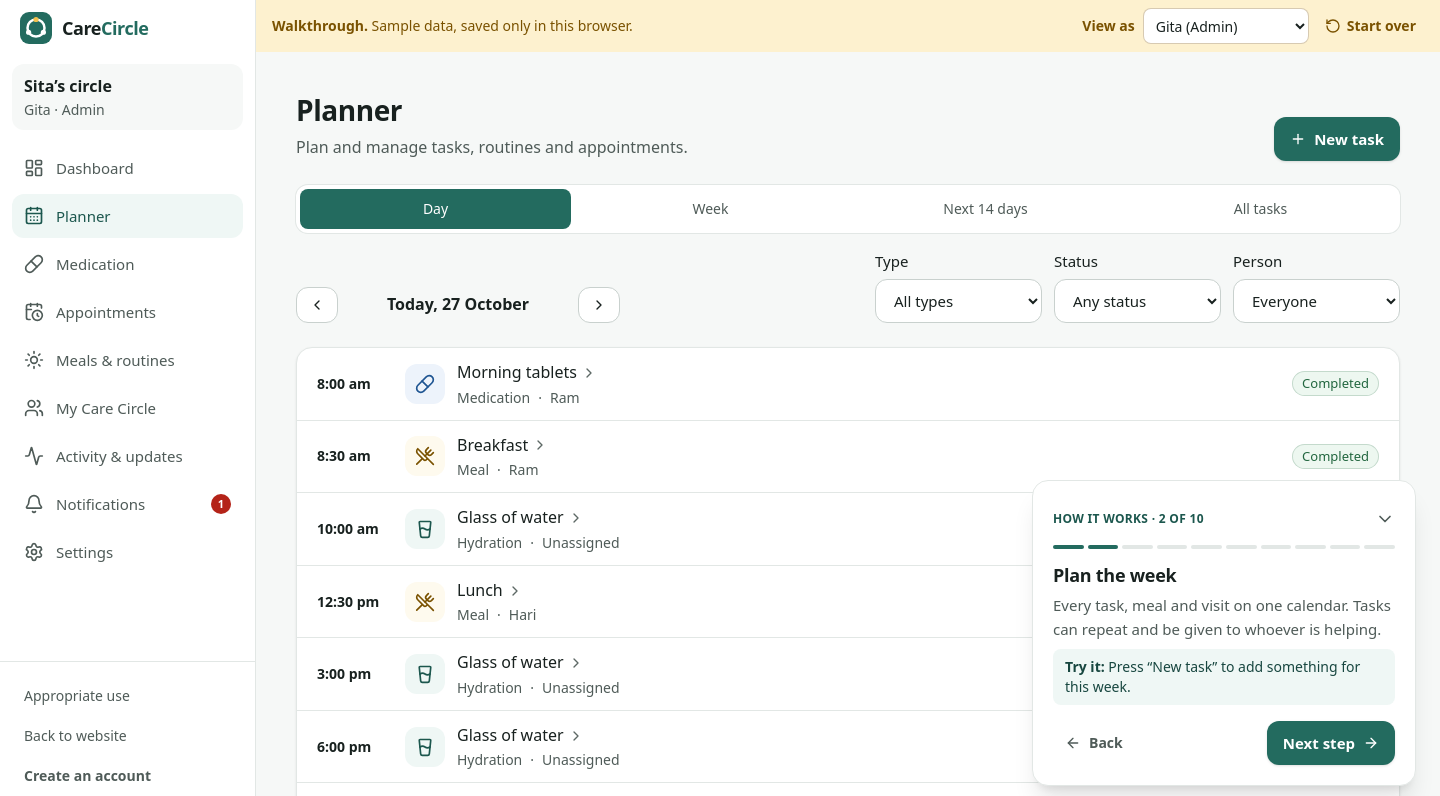
Test: dashboard and planner › shows validation errors instead of saving an incomplete task
Click the button "New task" at (1337, 139), box [1274, 117, 1400, 161]
(page scrolled)
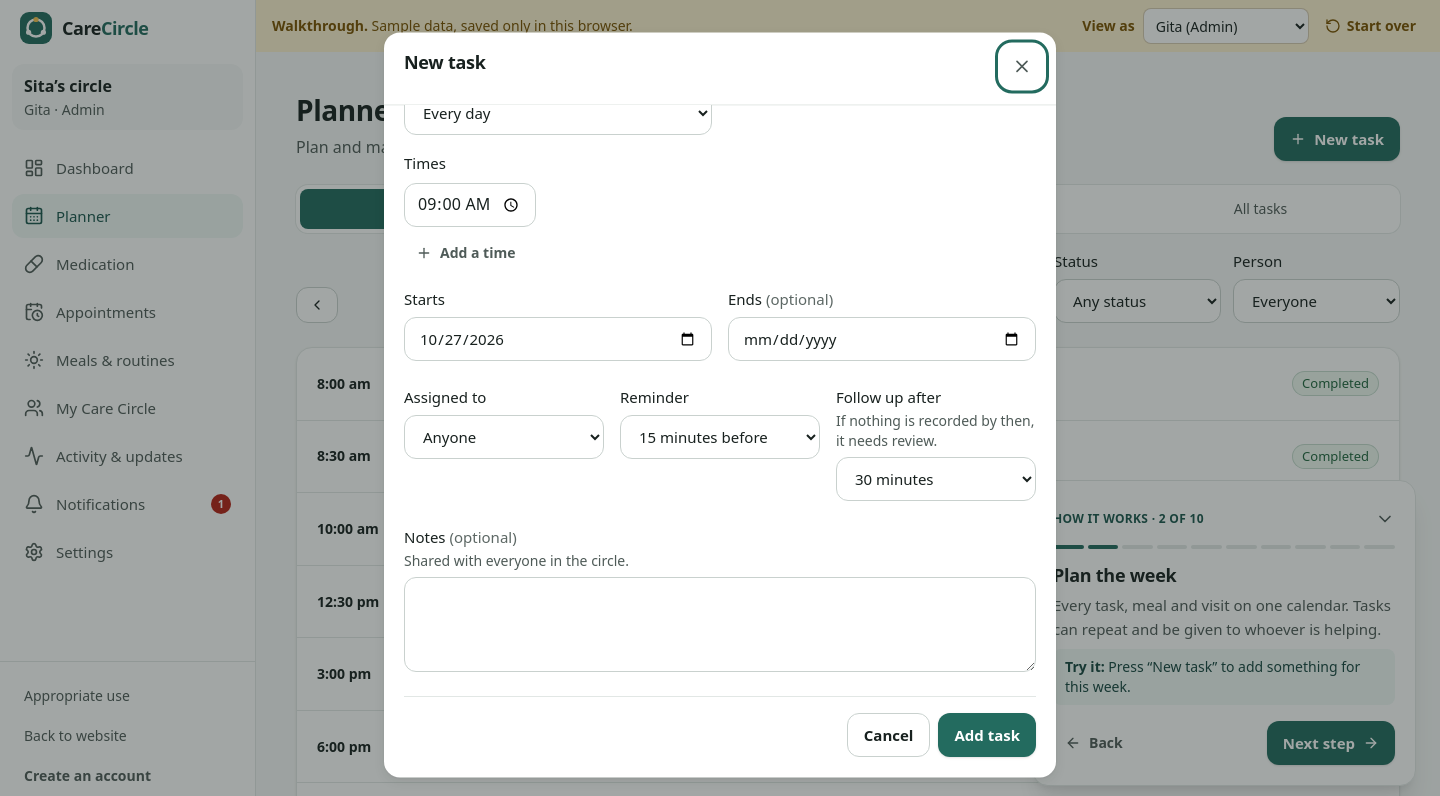
Click the button "Add task" at (987, 736), box [938, 714, 1036, 758]
(page scrolled)
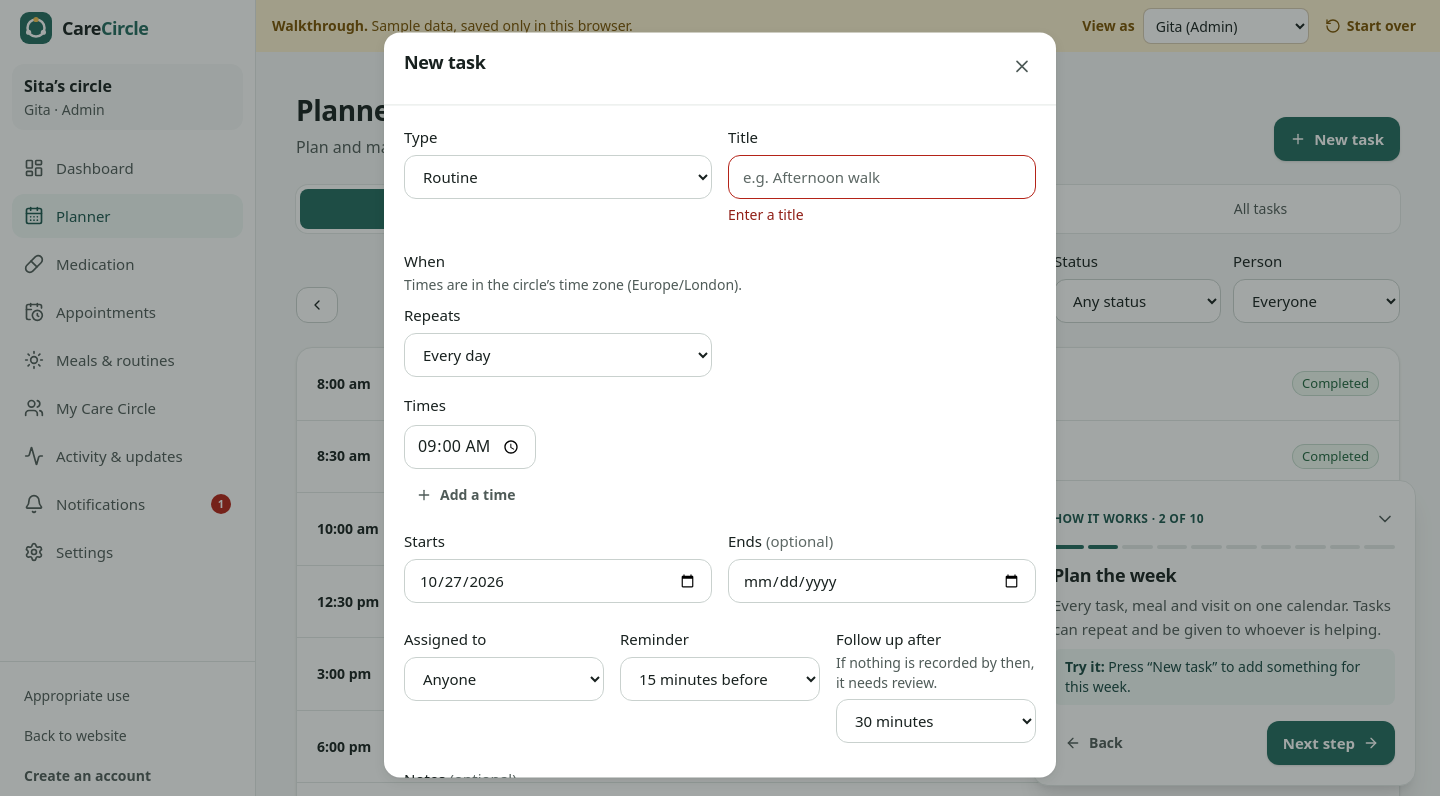
Expected: the text "Enter a title" is shown, [728, 205, 804, 224]
